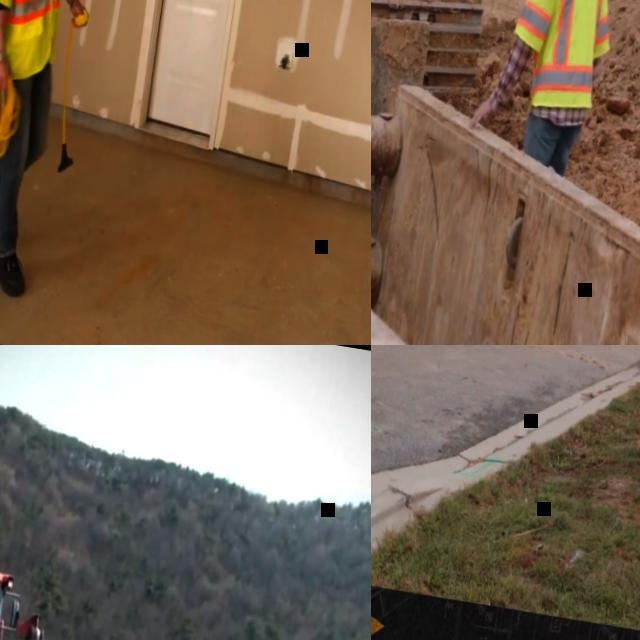Person: (0, 0, 125, 302), (461, 0, 637, 177)
Safety Vest: (506, 0, 624, 101), (0, 0, 83, 86)
